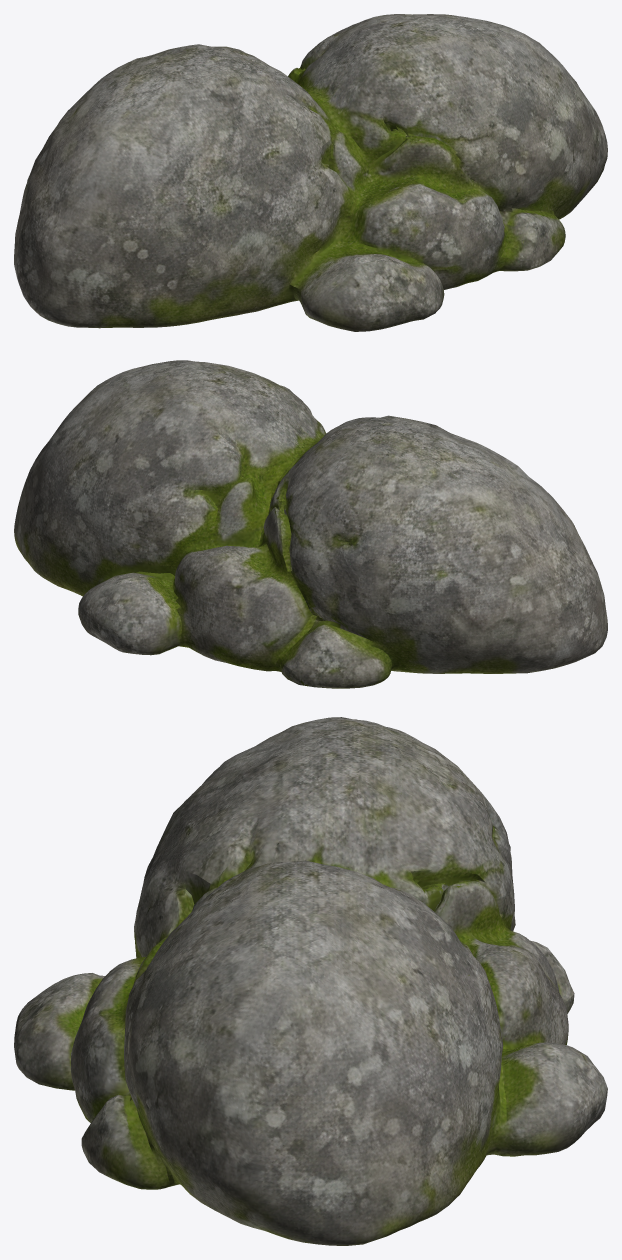
Rendered from meadows_rock_cluster_b.glb.
3 views of the same model, one above another, from view 1: azimuth 30°, elevation 25°; view 2: azimuth 150°, elevation 25°; view 3: azimuth 270°, elevation 25° (orthographic). The views are drawn at different scales.
Visible parts, largest first — view 1: Mesh_0; view 2: Mesh_0; view 3: Mesh_0.
Boxes of the visible parts, x1,y1,x2,y2 form: Mesh_0: (14,14,607,331); Mesh_0: (14,360,607,688); Mesh_0: (14,717,607,1245).
Bounding box in the file's own units: 1.9 × 0.6405 × 1.31.
Materials: 1 (1 with a texture image).
